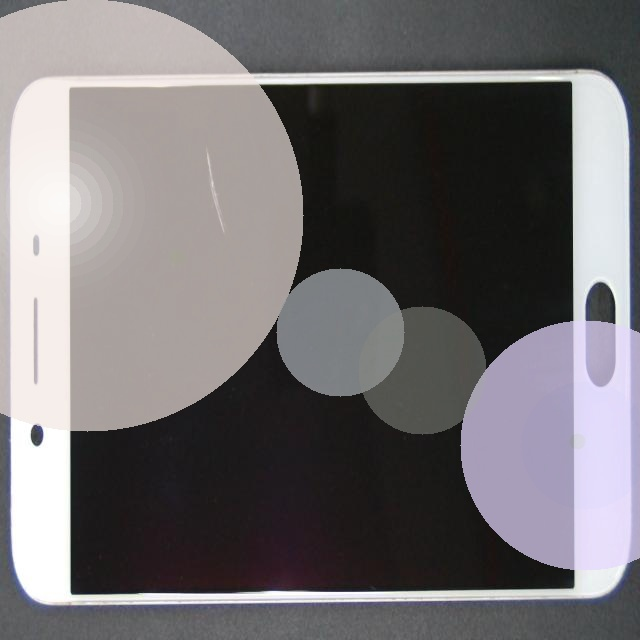scratch: (133, 145, 336, 278)
